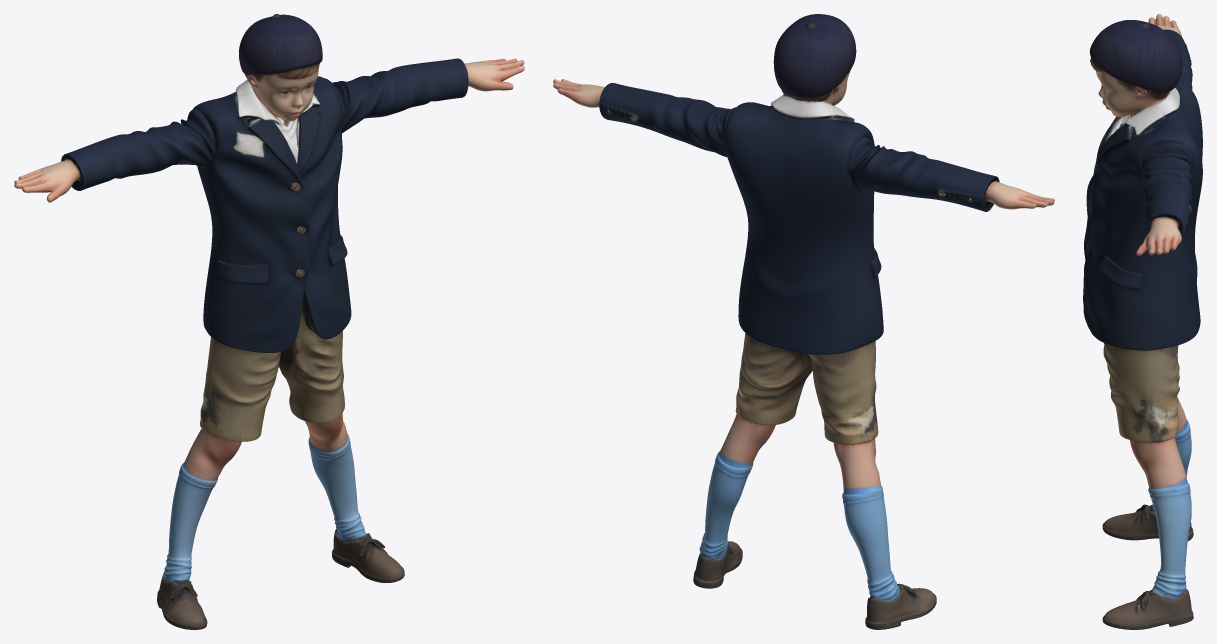
Rendered from Meshy_AI_Georg_T_pose_0210155543_texture.fbx.
The picture shows the model from 3 angles, left to right: view 1: azimuth 30°, elevation 25°; view 2: azimuth 150°, elevation 25°; view 3: azimuth 270°, elevation 25°; orthographic projection. The views are drawn at different scales.
Parts seen in each view (by area): view 1: Mesh_0; view 2: Mesh_0; view 3: Mesh_0.
Part boxes in pixels (x1=…): Mesh_0: x1=14, y1=14, x2=524, y2=629; Mesh_0: x1=553, y1=14, x2=1054, y2=629; Mesh_0: x1=1083, y1=14, x2=1202, y2=629.
Size of the model in its own units: 174 by 190 by 37.06.
1 material, 1 textured.
